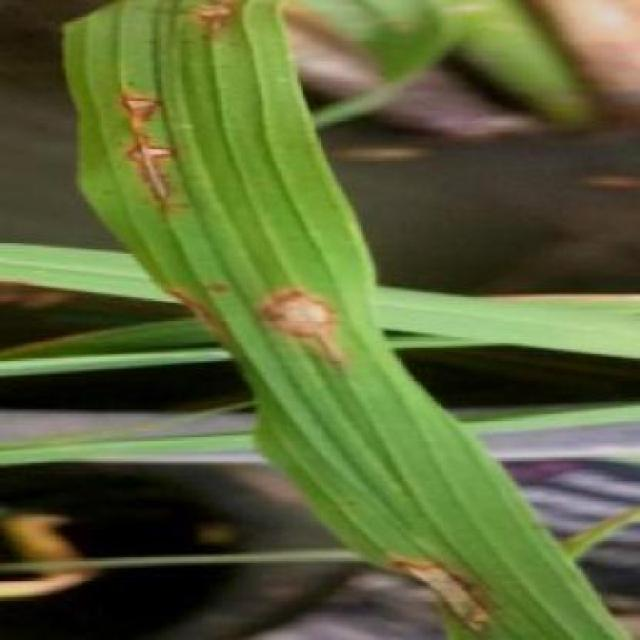Bacterial_Leaf_Blight: (83, 67, 214, 222), (250, 251, 362, 386), (136, 263, 272, 368), (369, 527, 497, 638), (83, 0, 252, 34)
